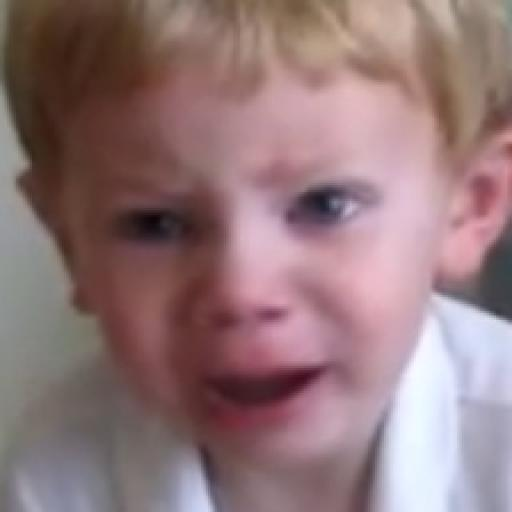Autism: (19, 16, 512, 492)
